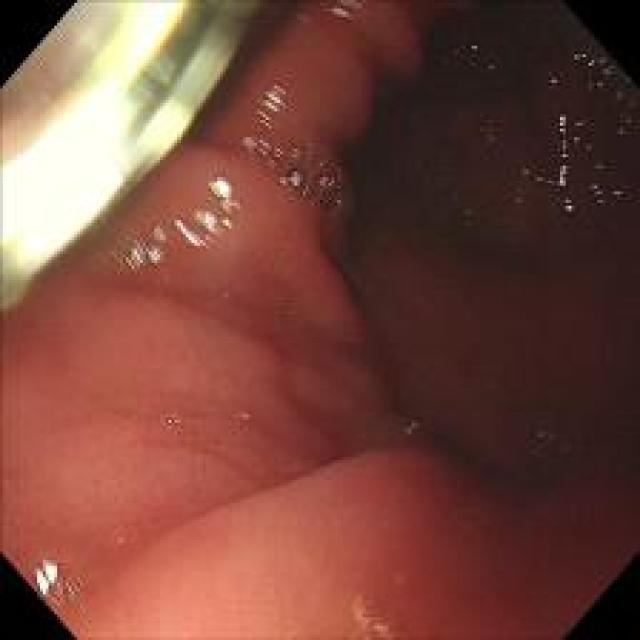bubbles: (342, 584, 404, 636), (400, 415, 425, 444), (234, 406, 256, 428), (159, 410, 182, 430)
color misalignment: (241, 79, 346, 201), (114, 225, 170, 269), (170, 211, 208, 249), (210, 171, 240, 211), (192, 208, 230, 234)
contrast: (324, 9, 614, 502)
saturation: (20, 94, 134, 262)
specularity: (550, 41, 632, 222), (156, 180, 246, 260), (32, 554, 81, 601), (256, 82, 285, 128), (146, 225, 165, 265), (121, 235, 142, 266)
